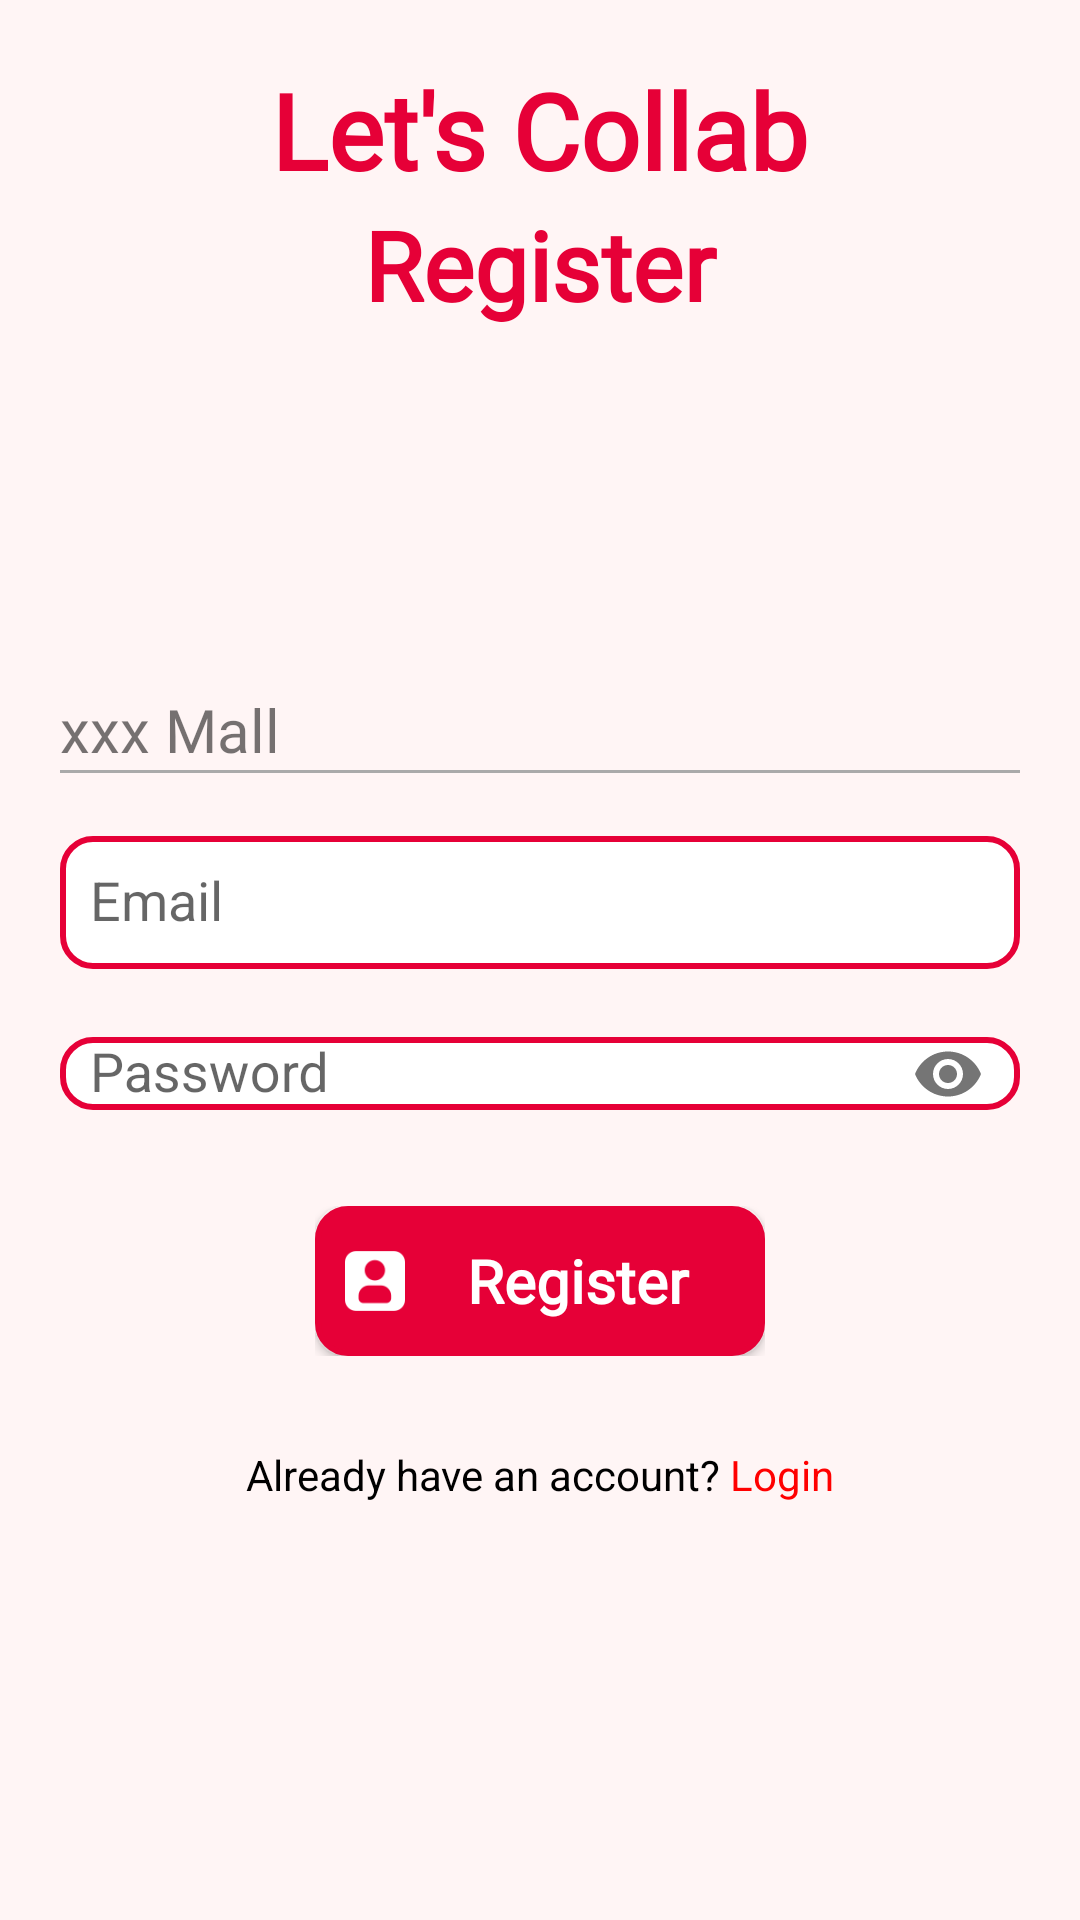

Where icons sit on this 1080px x 1920px app screen, as detection(x1, y1, x2, y2):
user: detection(345, 1251, 405, 1311)
